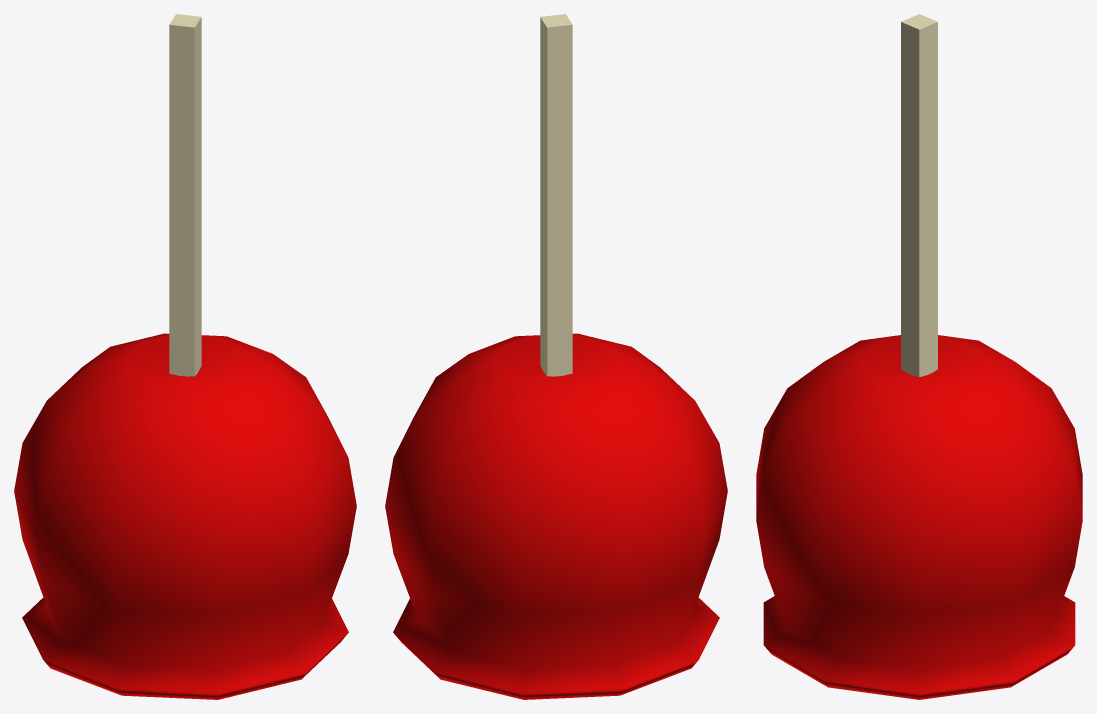
File: apple.fbx
The picture shows the model from 3 angles, left to right: view 1: azimuth 30°, elevation 25°; view 2: azimuth 150°, elevation 25°; view 3: azimuth 270°, elevation 25°; orthographic projection.
Parts seen in each view (by area): view 1: pSphere1, pCylinder1; view 2: pSphere1, pCylinder1; view 3: pSphere1, pCylinder1.
Boxes of the visible parts, x1,y1,x2,y2 form: pSphere1: (14, 333, 356, 699); pCylinder1: (169, 14, 201, 376); pSphere1: (385, 333, 727, 699); pCylinder1: (540, 14, 572, 376); pSphere1: (756, 335, 1082, 699); pCylinder1: (901, 14, 937, 376).
Bounding box in the file's own units: 28.36 × 55.8 × 26.97.
